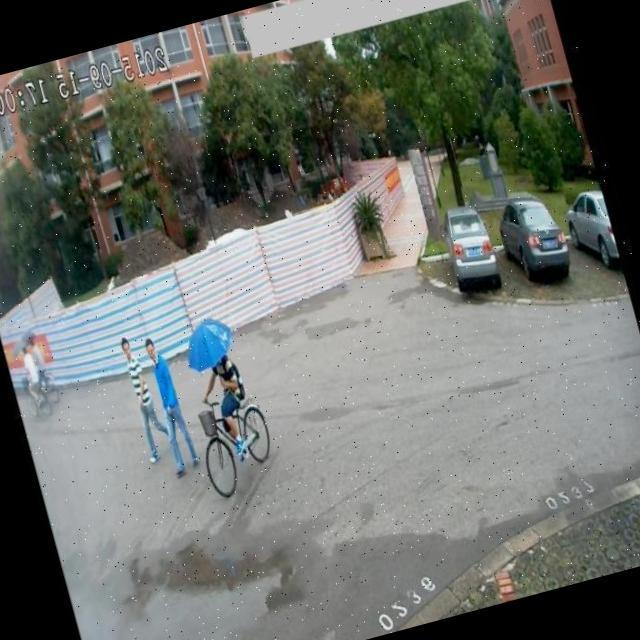person: (178, 294, 264, 463), (113, 326, 180, 487), (140, 333, 202, 484), (16, 345, 46, 409), (24, 320, 51, 380)
